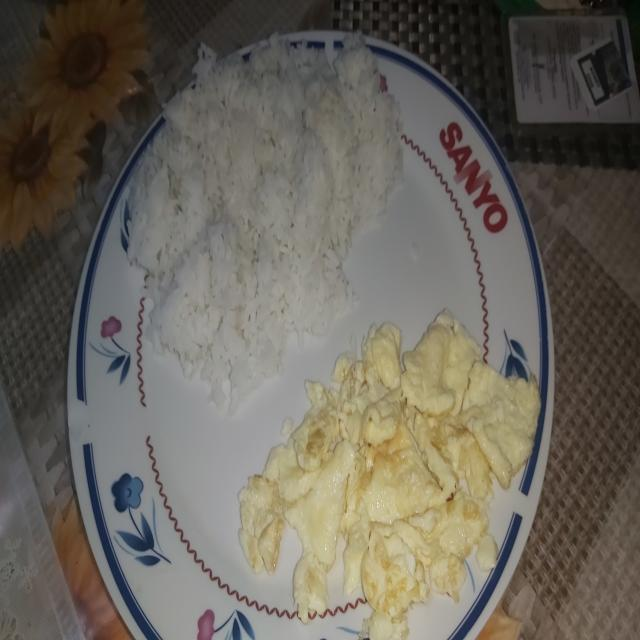Chicken -Chicken Inasal-: (130, 32, 382, 384)
